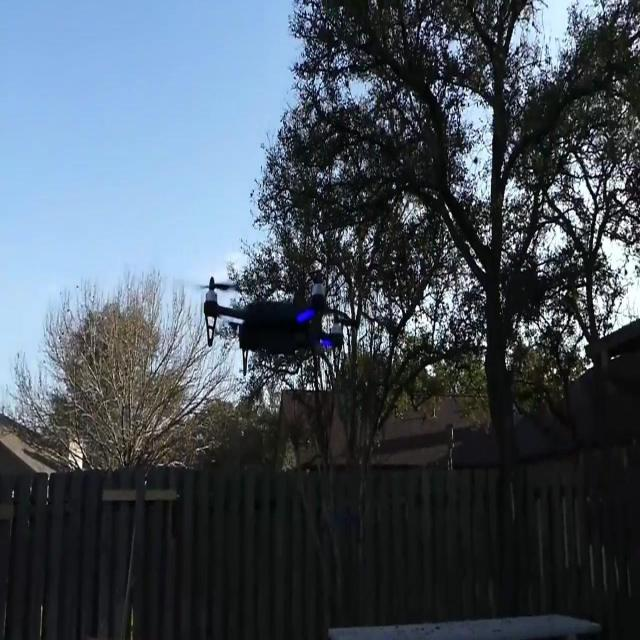UAV: (196, 269, 358, 385)
